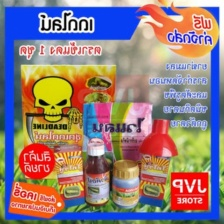book: (18, 61, 120, 184)
insecticide: (79, 98, 156, 190), (134, 144, 172, 208), (82, 140, 114, 208), (50, 142, 86, 201), (109, 157, 144, 210)
